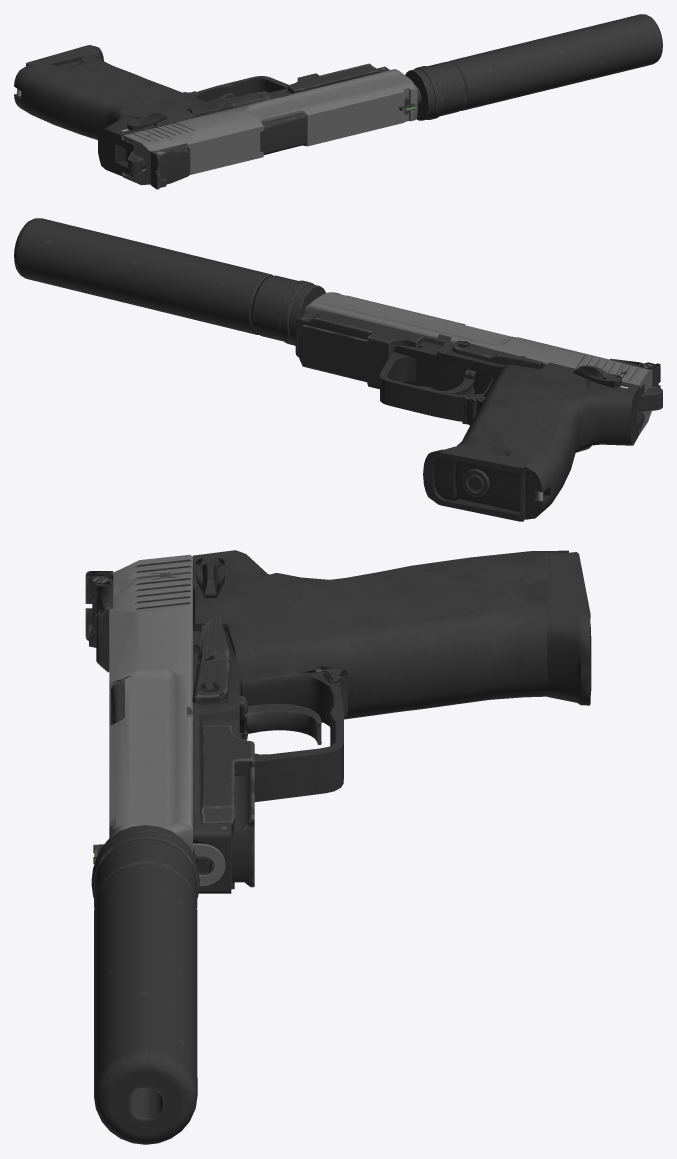
Rendered from USP_0.glb.
3 views of the same model, one above another, from view 1: azimuth 30°, elevation 25°; view 2: azimuth 150°, elevation 25°; view 3: azimuth 270°, elevation 25° (orthographic). The views are drawn at different scales.
Parts seen in each view (by area): view 1: USP_upd, USP_upd_slider, USP_upd_mag; view 2: USP_upd, USP_upd_slider, USP_upd_mag; view 3: USP_upd, USP_upd_slider, USP_upd_mag.
Part boxes in pixels (x1,y1,x2,y2): USP_upd: (14,14,662,176); USP_upd_slider: (121,69,417,189); USP_upd_mag: (26,45,103,67); USP_upd: (14,218,662,519); USP_upd_slider: (305,292,660,434); USP_upd_mag: (423,444,527,521); USP_upd: (91,550,568,1144); USP_upd_slider: (85,554,225,886); USP_upd_mag: (547,552,591,705).
Size of the model in its own units: 0.3013 by 0.0298 by 0.1236.
1 material, 1 textured.
